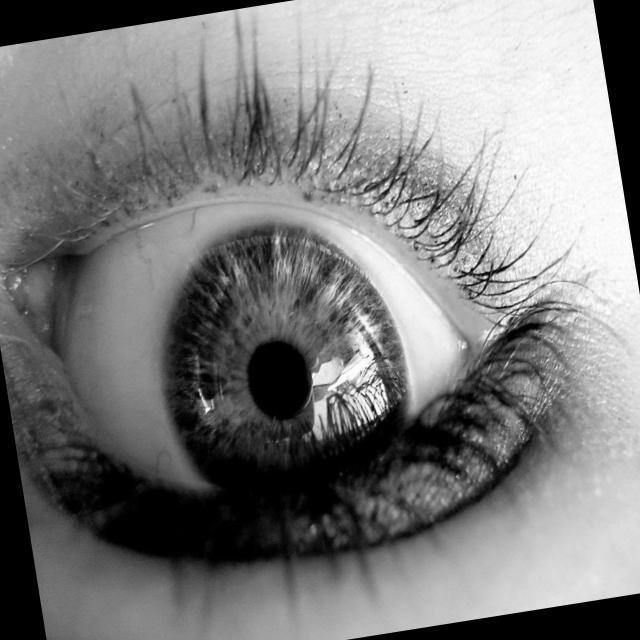Normal: (5, 124, 596, 540)
